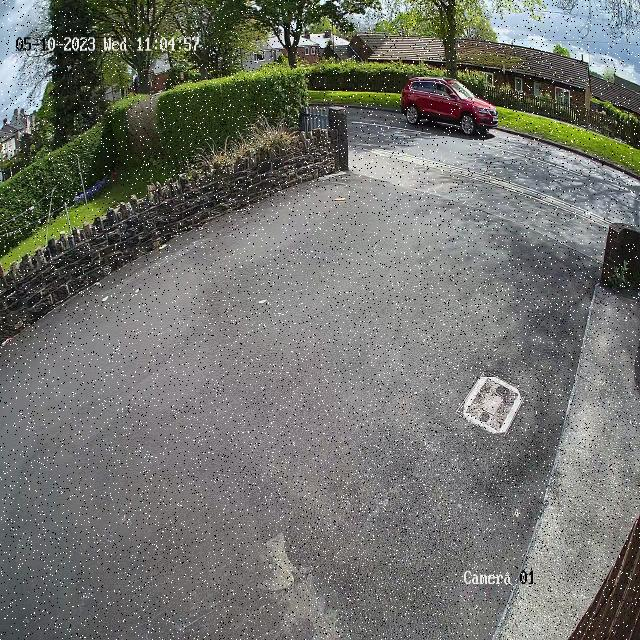vehicle: (399, 62, 507, 144)
